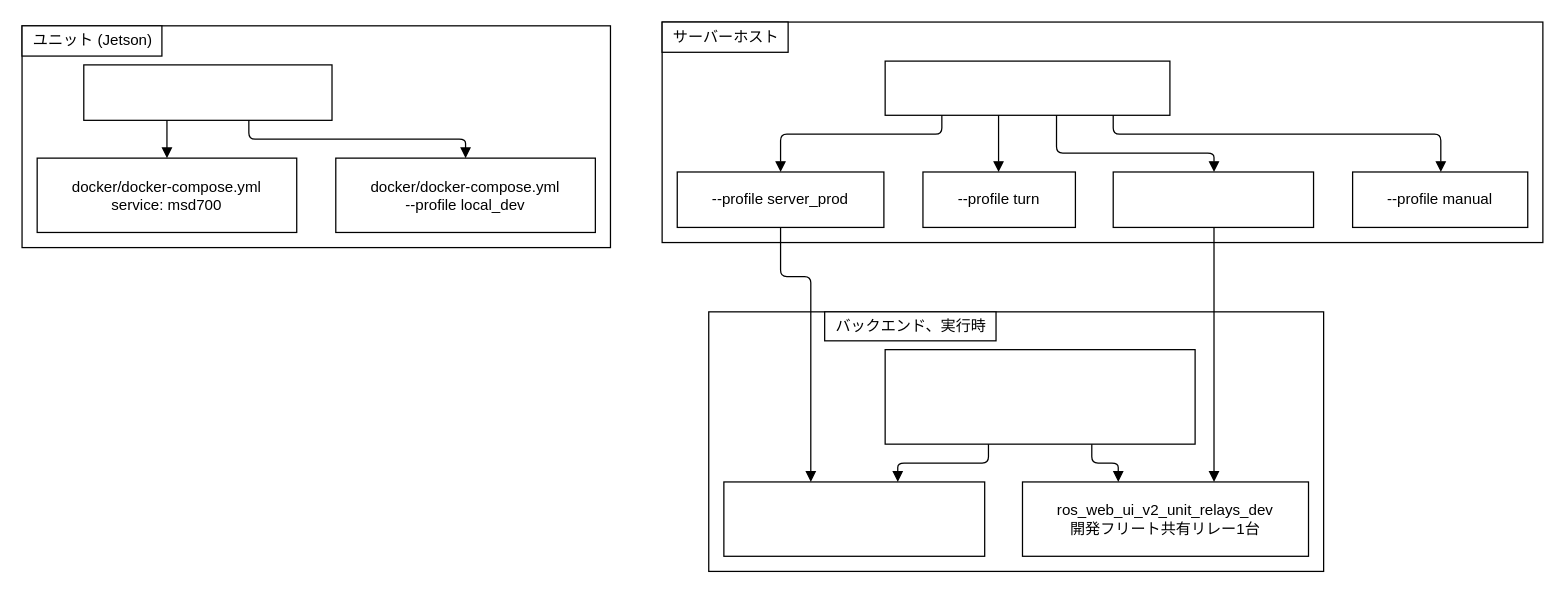
Some shapes in this 1565 by 593 pixel diagram are drawn without their labels. Each missing label, with the box of its shape:
--profile server_dev: (1112, 171, 1314, 227)
ros-web-ui/docker-compose.yml: (884, 60, 1170, 115)
ros_web_ui_v2_unit_relays 本番フリート共有リレー1台: (723, 481, 985, 556)
scripts/docker-manager.sh: (83, 64, 332, 120)
unit_manager.js Docker APIで再起動/整合のみ、作 成なし: (884, 348, 1195, 444)
